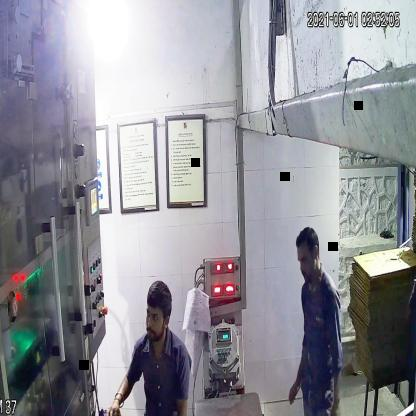no_goggles: (142, 302, 170, 328)
